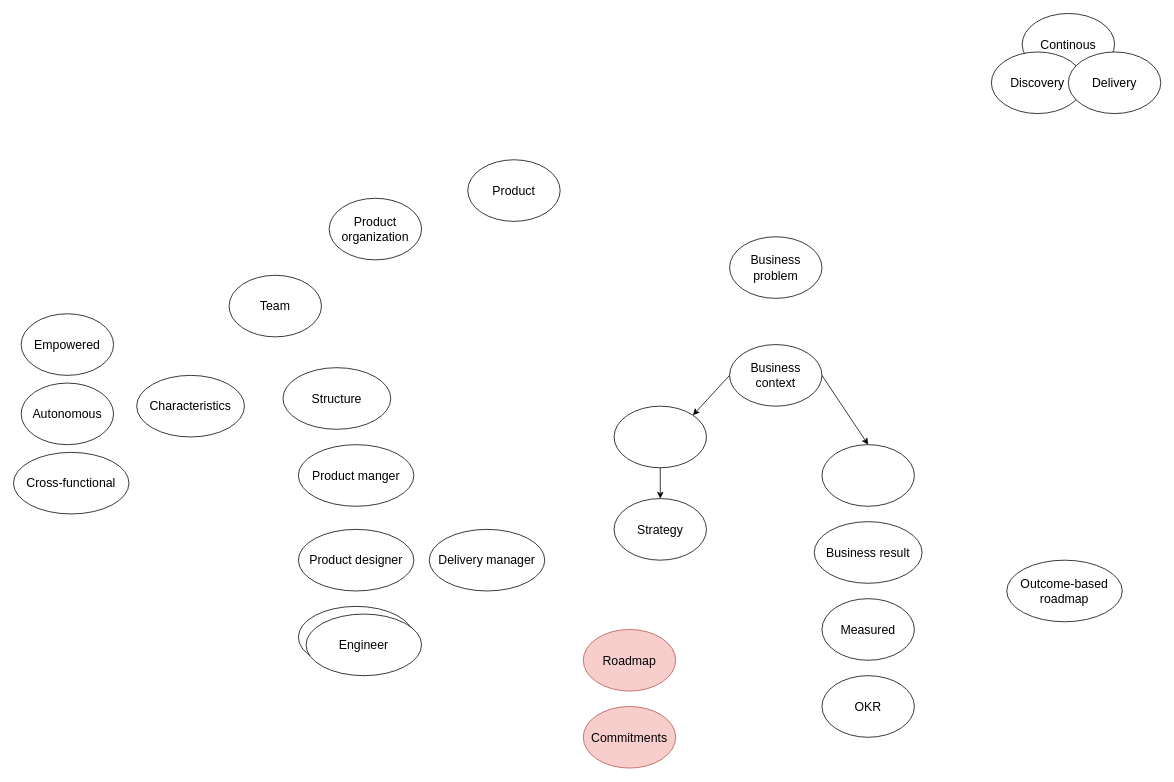
This 1174x782 diagram has some shape labels left out. Here are the shapes that lost their labels. From the top down, the centre of each, then its label:
At (x=659, y=436): "Vision".
At (x=867, y=475): "Objectives".
